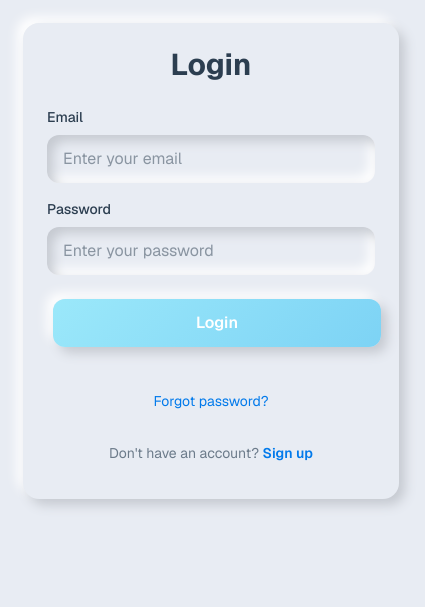
Login Component › should handle successful signup
// Switch to signup mode
Click the button "Sign up": click(288, 453) [262,431,313,475]
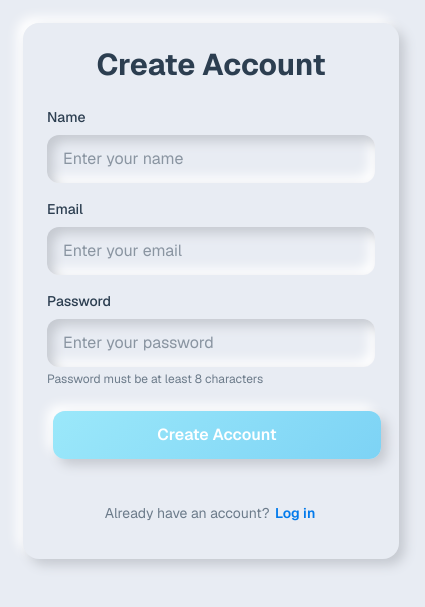
In the field labelled "Name": (211, 159) [47,135,375,183], type "Test User"
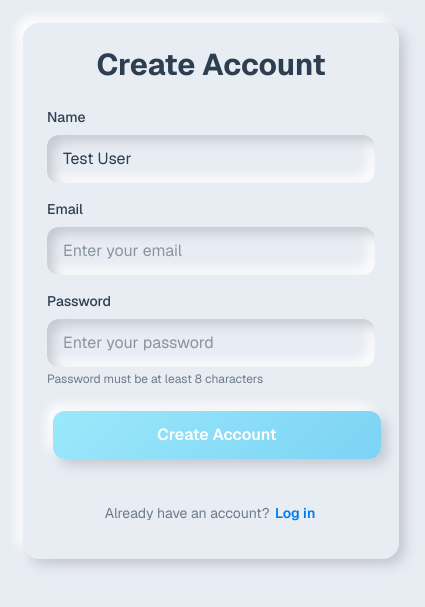
In the field labelled "Email": (211, 251) [47,227,375,275], type "test@example.com"
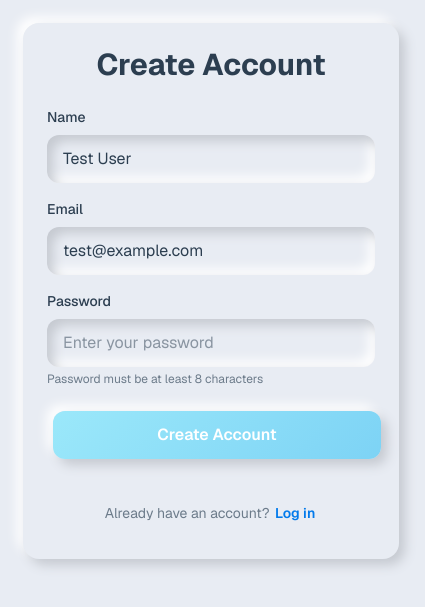
In the password field labelled "Password": (211, 343) [47,319,375,367], type "password123"
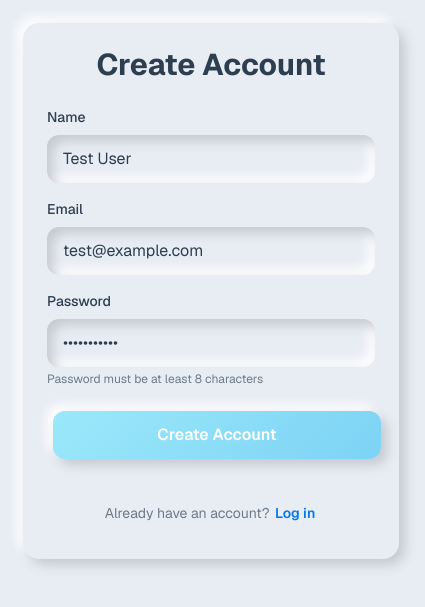
Click the button "Create Account": click(217, 435) [53,411,381,459]
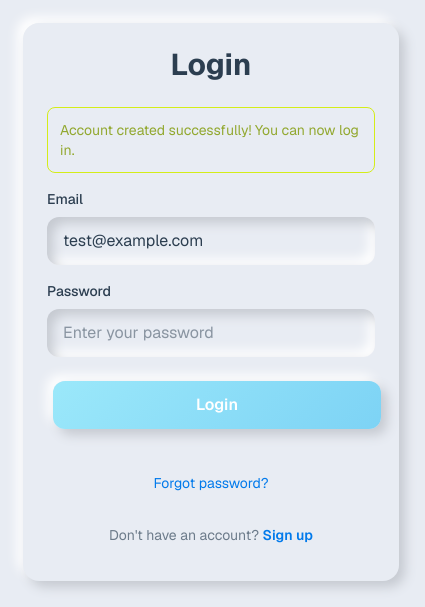
Check: the text "Account created successfully! You can now log in." is shown, box [60,120,362,160]
